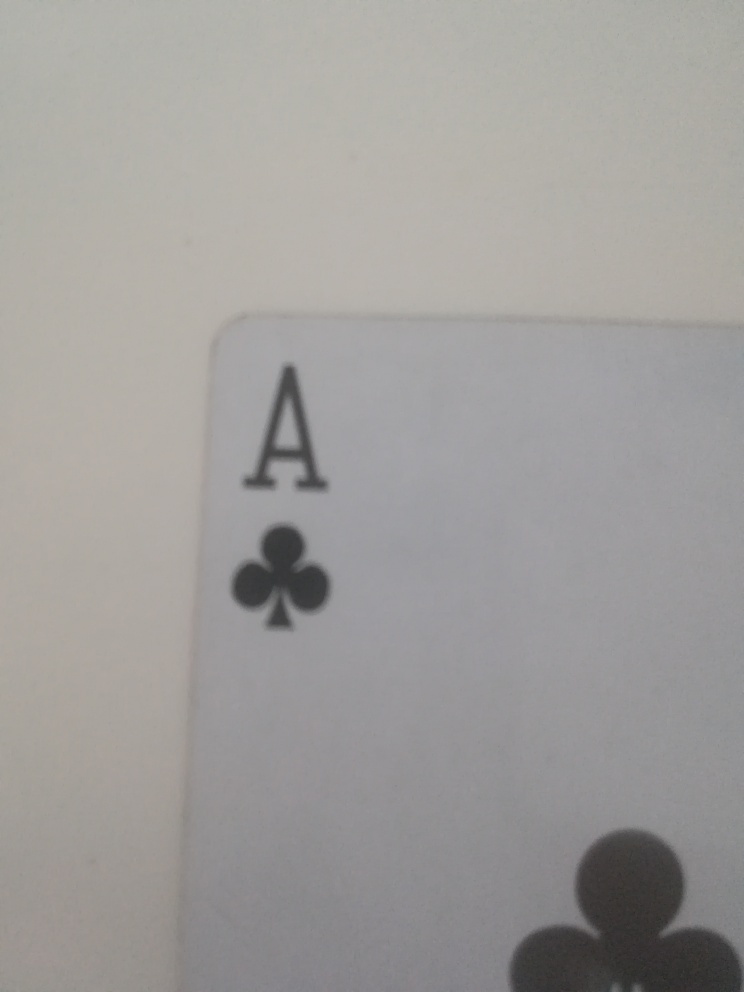AC: (216, 351, 363, 641)
